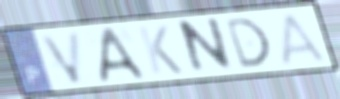A: (98, 25, 148, 85), (281, 11, 329, 67)
D: (222, 16, 274, 71)
K: (135, 24, 186, 76)
N: (178, 15, 236, 78)
V: (37, 29, 85, 86)
